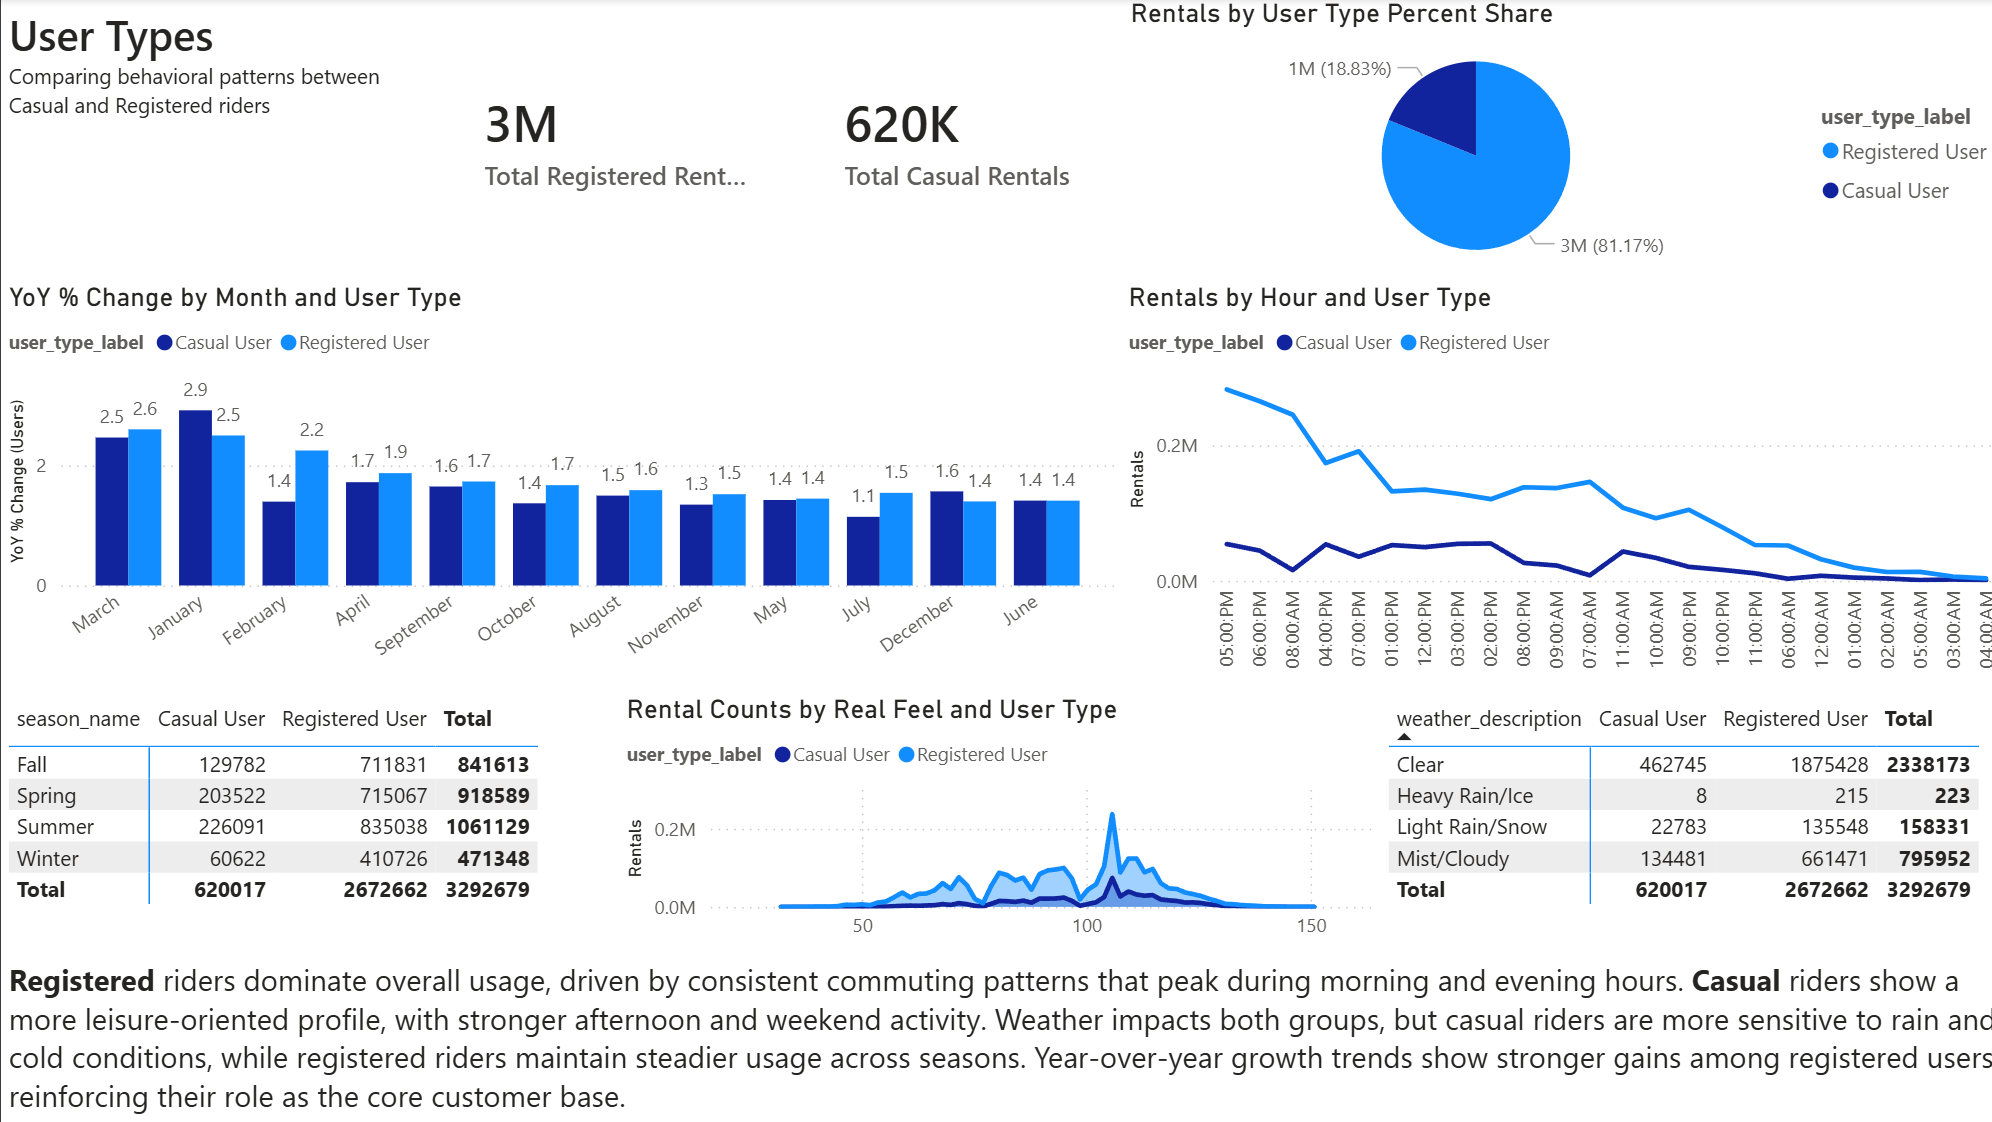

This screenshot's page, from the dashboard's own definition file:
{"tool":"powerbi","page":{"name":"User Types","canvas":[1280,720],"ordinal":4},"visuals":[{"type":"textbox","box":[0,0,280,86.4],"z":0},{"type":"cardVisual","fields":{"Data":["public view_fact_bike_rentals.Registered Rentals"]},"box":[280,0,240,184],"z":2000},{"type":"cardVisual","fields":{"Data":["public view_fact_bike_rentals.Casual Rentals"]},"box":[520,0,192,184],"z":3000},{"type":"lineChart","title":"Rentals by Hour and User Type","fields":{"Category":["public dim_hour.hour_label"],"Series":["dim_user_type.user_type_label"],"Y":["public view_fact_bike_rentals.YoY % Change"]},"box":[712,184,568,256],"z":4000},{"type":"textbox","box":[0,624,1280,96],"z":6000},{"type":"pieChart","title":"Rentals by User Type Percent Share","fields":{"Category":["dim_user_type.user_type_label"],"Y":["public view_fact_bike_rentals.Total Rentals"]},"box":[712,0,568,184],"z":7000},{"type":"areaChart","title":"Rental Counts by Real Feel and User Type","fields":{"Category":["public view_fact_bike_rentals.real_feel_f"],"Y":["public view_fact_bike_rentals.Total Rentals"],"Series":["dim_user_type.user_type_label"]},"box":[392,440,488,184],"z":8000},{"type":"pivotTable","fields":{"Rows":["public view_fact_bike_rentals.weather_desc"],"Columns":["dim_user_type.user_type_label"],"Values":["public view_fact_bike_rentals.Total Rentals"]},"box":[880,440,400,184],"z":9000},{"type":"pivotTable","fields":{"Rows":["public dim_season.season_name"],"Columns":["dim_user_type.user_type_label"],"Values":["public view_fact_bike_rentals.Total Rentals"]},"box":[0,440,392,176],"z":9001},{"type":"clusteredColumnChart","fields":{"Category":["public view_fact_bike_rentals.month_name"],"Series":["dim_user_type.user_type_label"],"Y":["public view_fact_bike_rentals.YoY % Change"]},"box":[0,184,712,256],"z":9002}]}

Visuals, with their boxes in screenshot pixels (x1, y1, x2, y2), scaled from the page's 1280x720 canvas onto the 1992x1122 screenshot:
textbox: Rect(0, 0, 436, 135)
cardVisual - public view_fact_bike_rentals.Registered Rentals: Rect(436, 0, 809, 287)
cardVisual - public view_fact_bike_rentals.Casual Rentals: Rect(809, 0, 1108, 287)
"Rentals by Hour and User Type" lineChart: Rect(1108, 287, 1991, 686)
textbox: Rect(0, 972, 1991, 1121)
"Rentals by User Type Percent Share" pieChart: Rect(1108, 0, 1991, 287)
"Rental Counts by Real Feel and User Type" areaChart: Rect(610, 686, 1370, 972)
pivotTable - public view_fact_bike_rentals.weather_desc x dim_user_type.user_type_label: Rect(1370, 686, 1991, 972)
pivotTable - public dim_season.season_name x dim_user_type.user_type_label: Rect(0, 686, 610, 960)
clusteredColumnChart - public view_fact_bike_rentals.month_name x dim_user_type.user_type_label: Rect(0, 287, 1108, 686)
